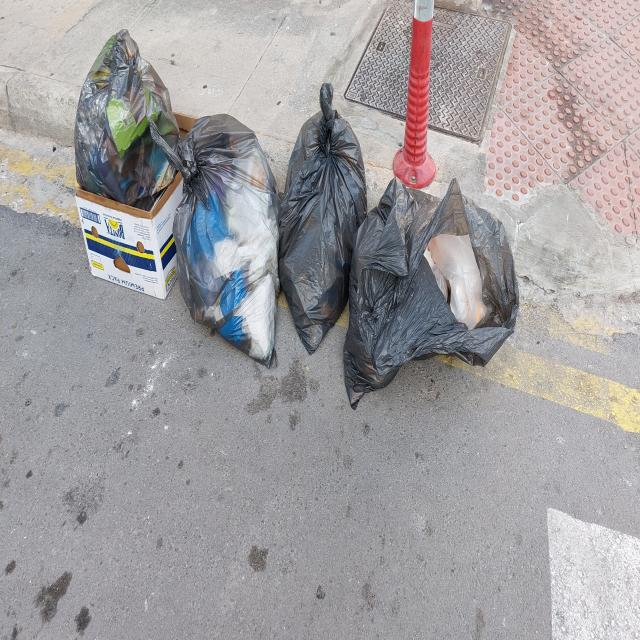Mixed Waste -Black Bag-: (344, 178, 525, 414), (151, 105, 281, 370), (280, 80, 370, 356), (75, 27, 186, 209)
Other: (77, 109, 198, 304)
